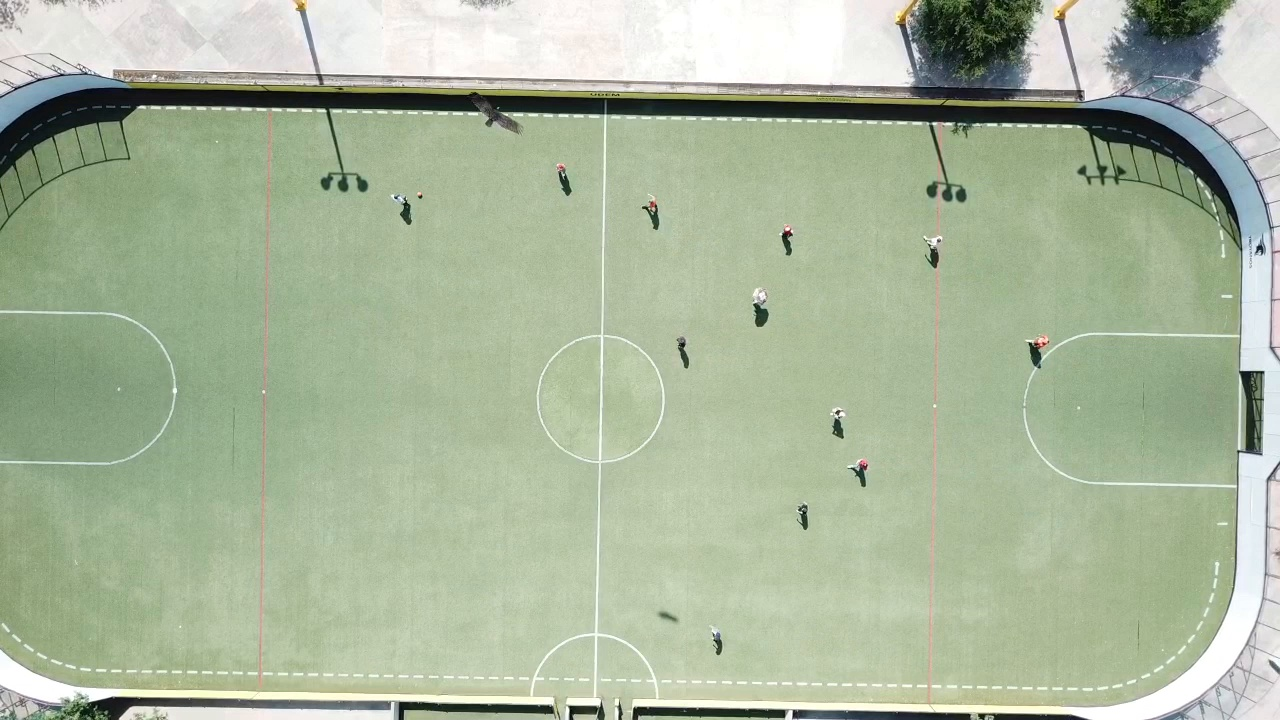ball: (417, 192, 423, 198)
player: (847, 459, 869, 481), (1025, 331, 1052, 348), (923, 234, 944, 253), (644, 196, 661, 214), (752, 288, 768, 306), (830, 407, 846, 422), (392, 193, 409, 207), (710, 625, 721, 645), (780, 225, 795, 238), (676, 336, 687, 351), (798, 503, 806, 519), (556, 162, 566, 174)
